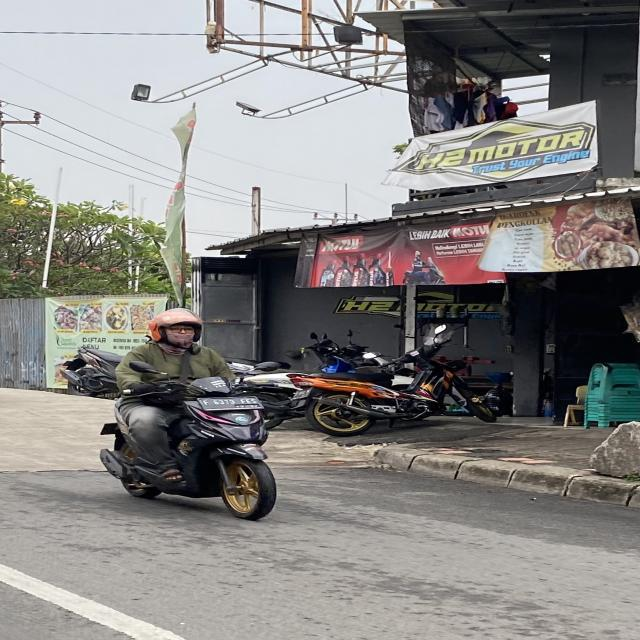Helmet: (148, 308, 201, 341)
Number Plate: (198, 396, 262, 410), (293, 389, 310, 399)
Rearview Mirror: (129, 361, 161, 373), (254, 361, 281, 371), (434, 324, 446, 335), (310, 332, 317, 339)
